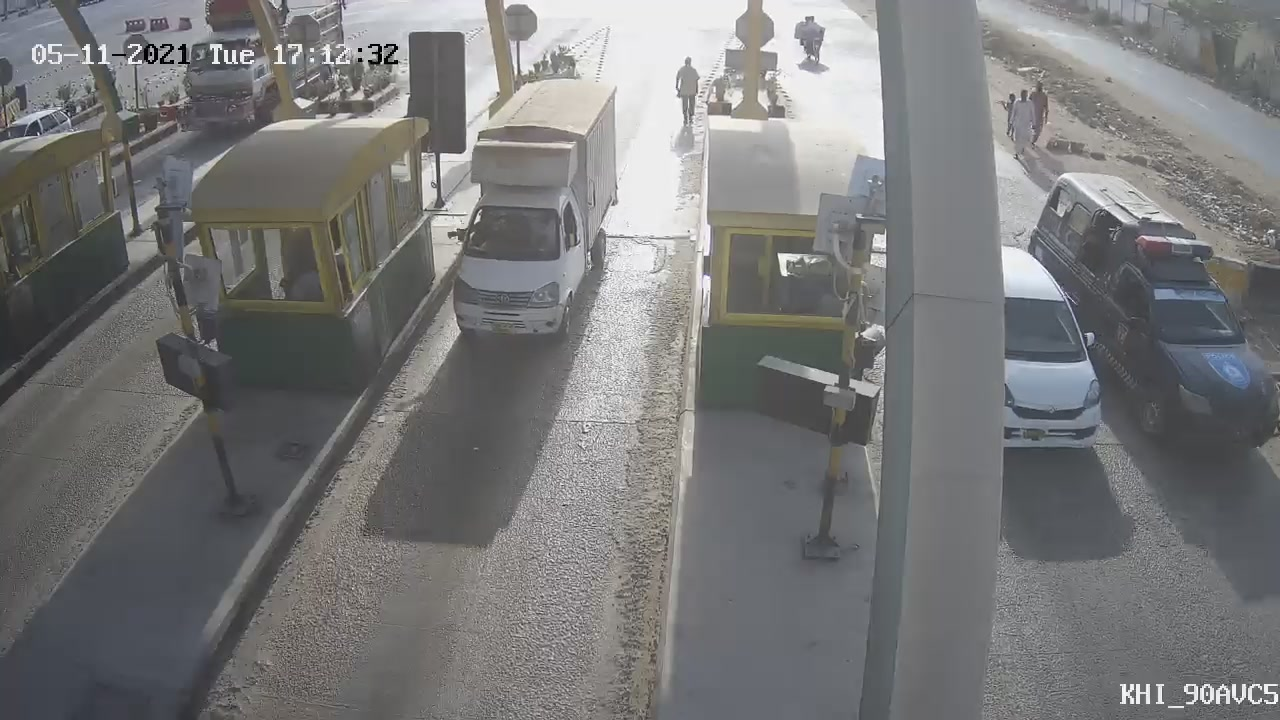F2: (434, 60, 625, 355)
